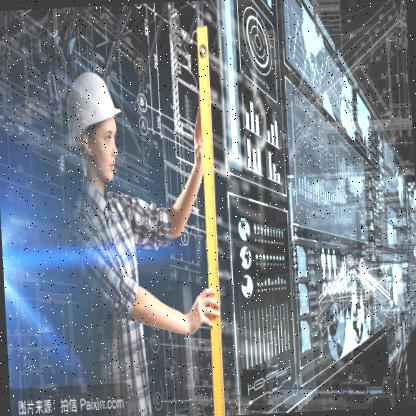capacete: (60, 64, 127, 188)
sem_colete_refletivo: (61, 176, 159, 415)
